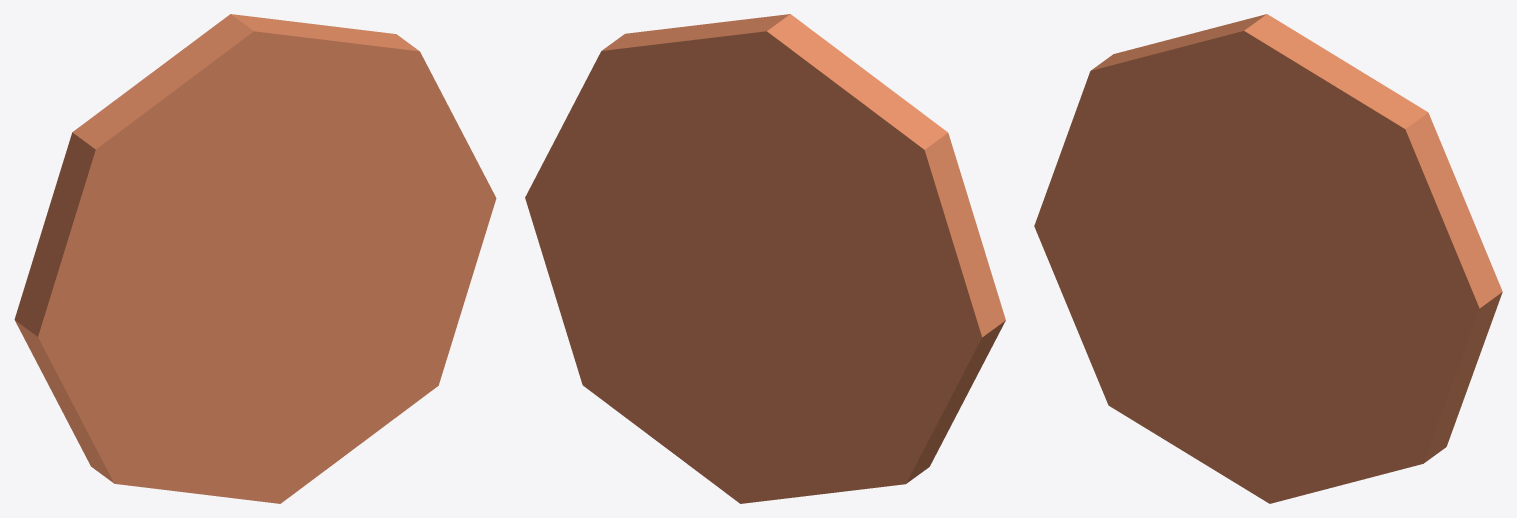
Rendered from cabybara  Back Whell.fbx.
The picture shows the model from 3 angles, left to right: view 1: azimuth 30°, elevation 25°; view 2: azimuth 150°, elevation 25°; view 3: azimuth 330°, elevation 25°; orthographic projection. The views are drawn at different scales.
Visible parts, largest first — view 1: Circle.001; view 2: Circle.001; view 3: Circle.001.
Boxes of the visible parts, box(x1,y1,x2,y2) form: Circle.001: box(14, 14, 496, 503); Circle.001: box(525, 14, 1005, 503); Circle.001: box(1034, 14, 1502, 503).
Size of the model in its own units: 132 by 132 by 12.16.
